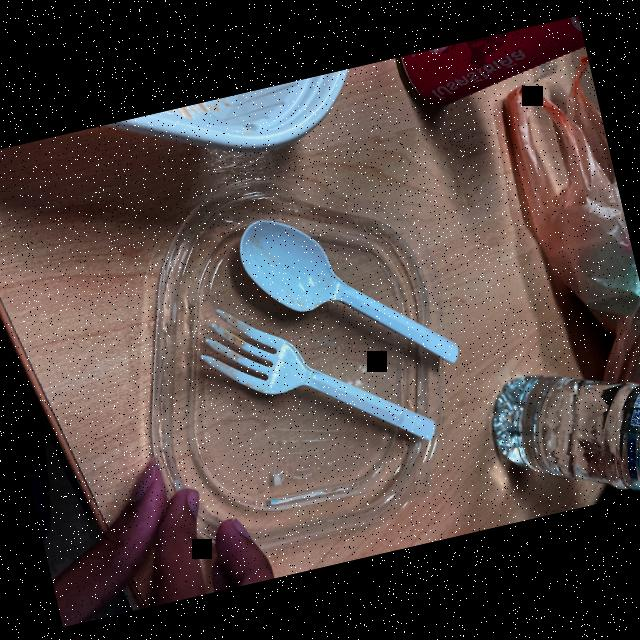plastic_spoon: (168, 249, 446, 504), (219, 169, 466, 416)
